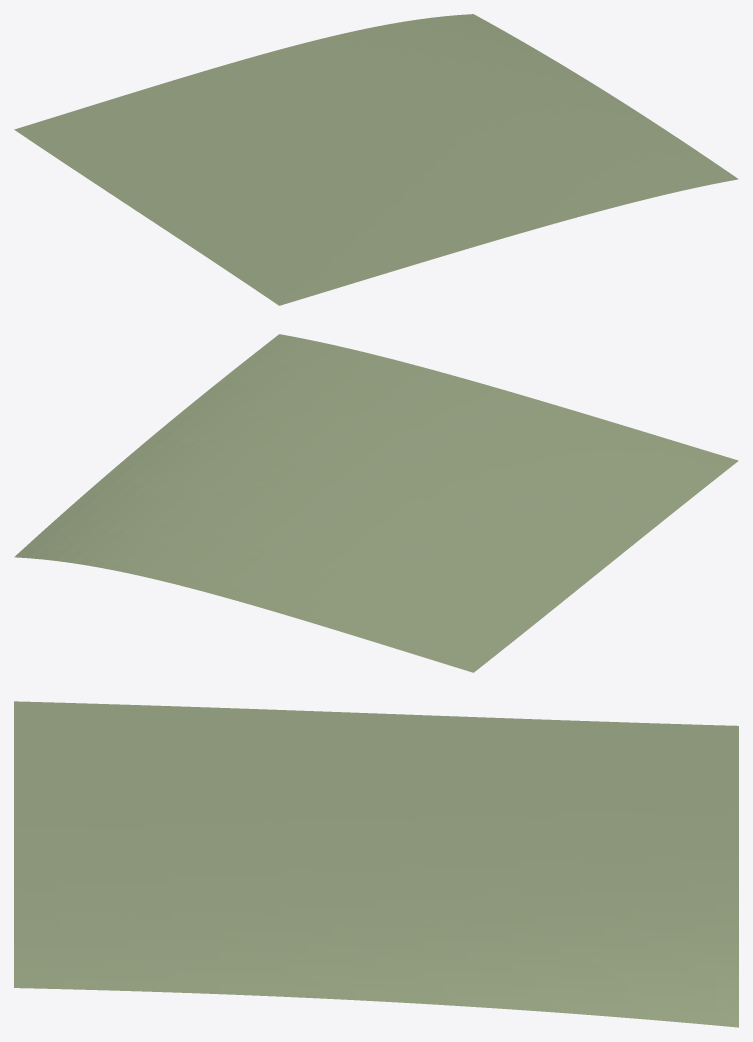
File: expanse-11-24.glb
The picture shows the model from 3 angles, top to bottom: view 1: azimuth 30°, elevation 25°; view 2: azimuth 150°, elevation 25°; view 3: azimuth 270°, elevation 25°; orthographic projection. The views are drawn at different scales.
Parts seen in each view (by area): view 1: expanse-11-24; view 2: expanse-11-24; view 3: expanse-11-24.
Part boxes in pixels (x1,y1,x2,y2): expanse-11-24: (14, 14, 738, 305); expanse-11-24: (14, 334, 738, 672); expanse-11-24: (14, 701, 738, 1027).
Size of the model in its own units: 256 by 18.65 by 256.
